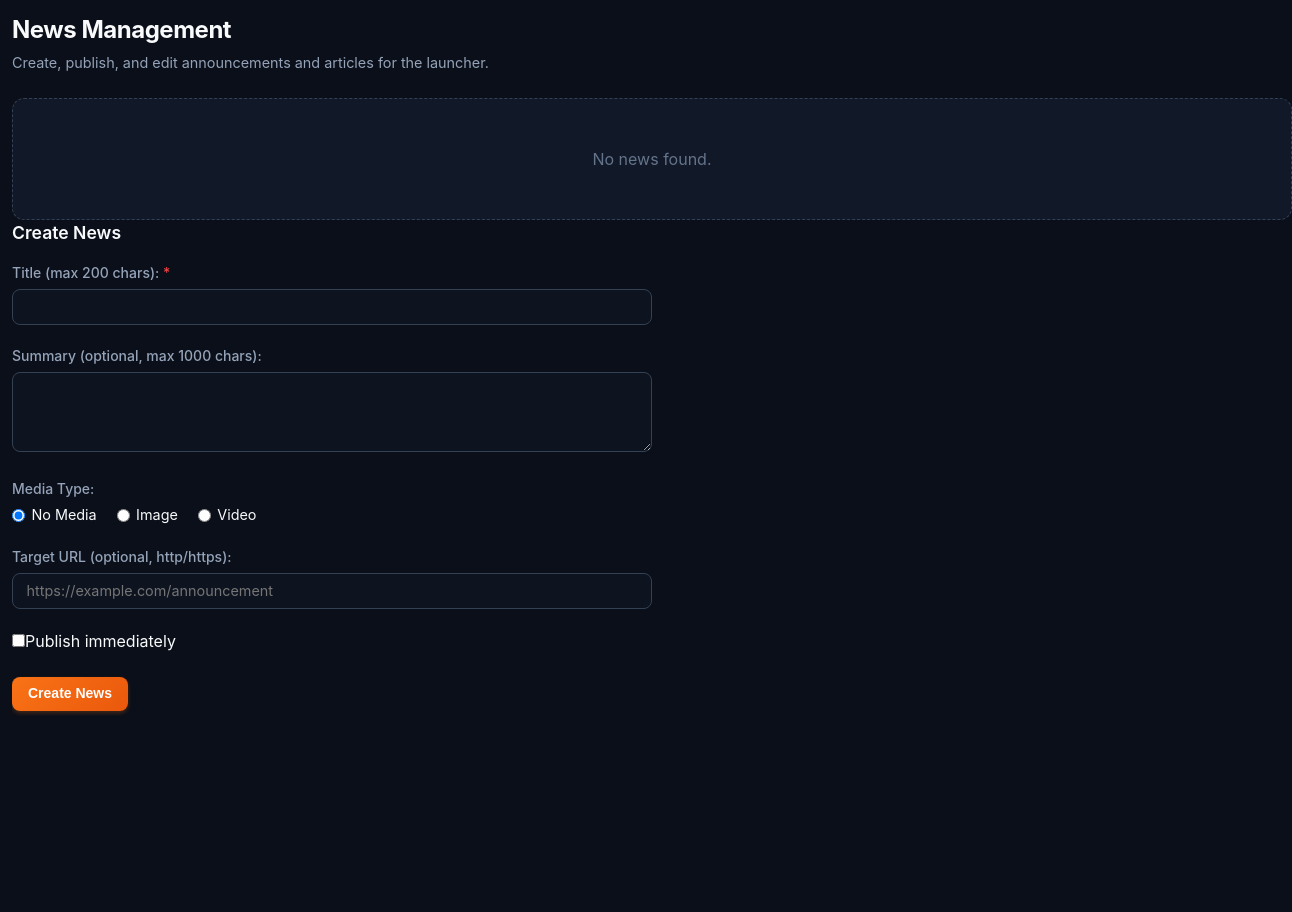
Test: News UI Functional Tests › 7. Rejects javascript: protocol in image_url and target_url
The image size is (1292, 912).
Expected: the heading "Create News" is shown, top-left (12, 220), bottom-right (121, 246)
# Select Image media type
Click the radio button with test id "media-type-image" at (123, 515), box top-left (117, 509), bottom-right (130, 522)
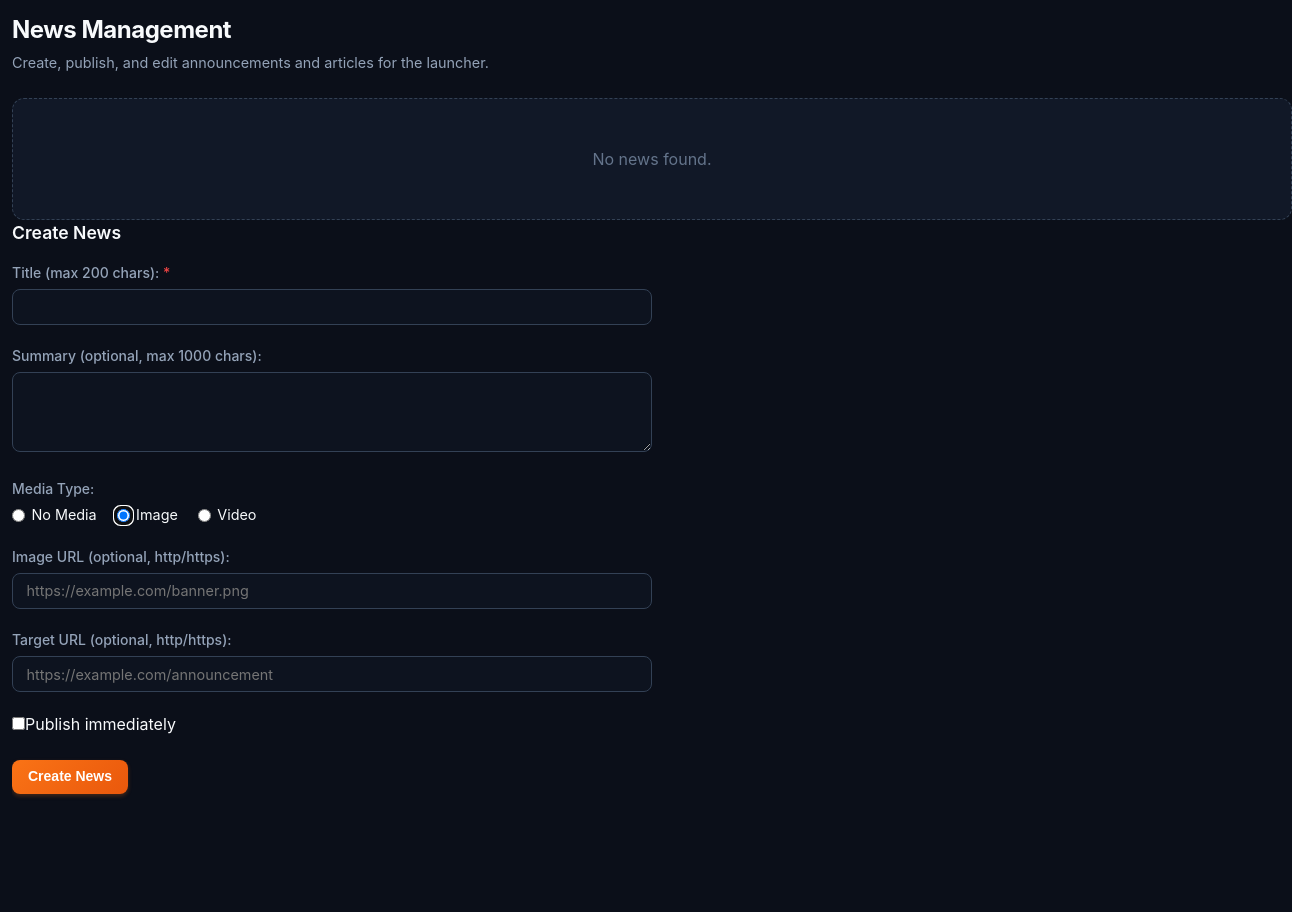
Type "Valid News" into the field labelled "Title (max 200 chars): *" at (332, 307), box top-left (12, 289), bottom-right (652, 325)
Type "javascript:alert(1)" into the field labelled "Image URL (optional, http/https):" at (332, 591), box top-left (12, 573), bottom-right (652, 609)
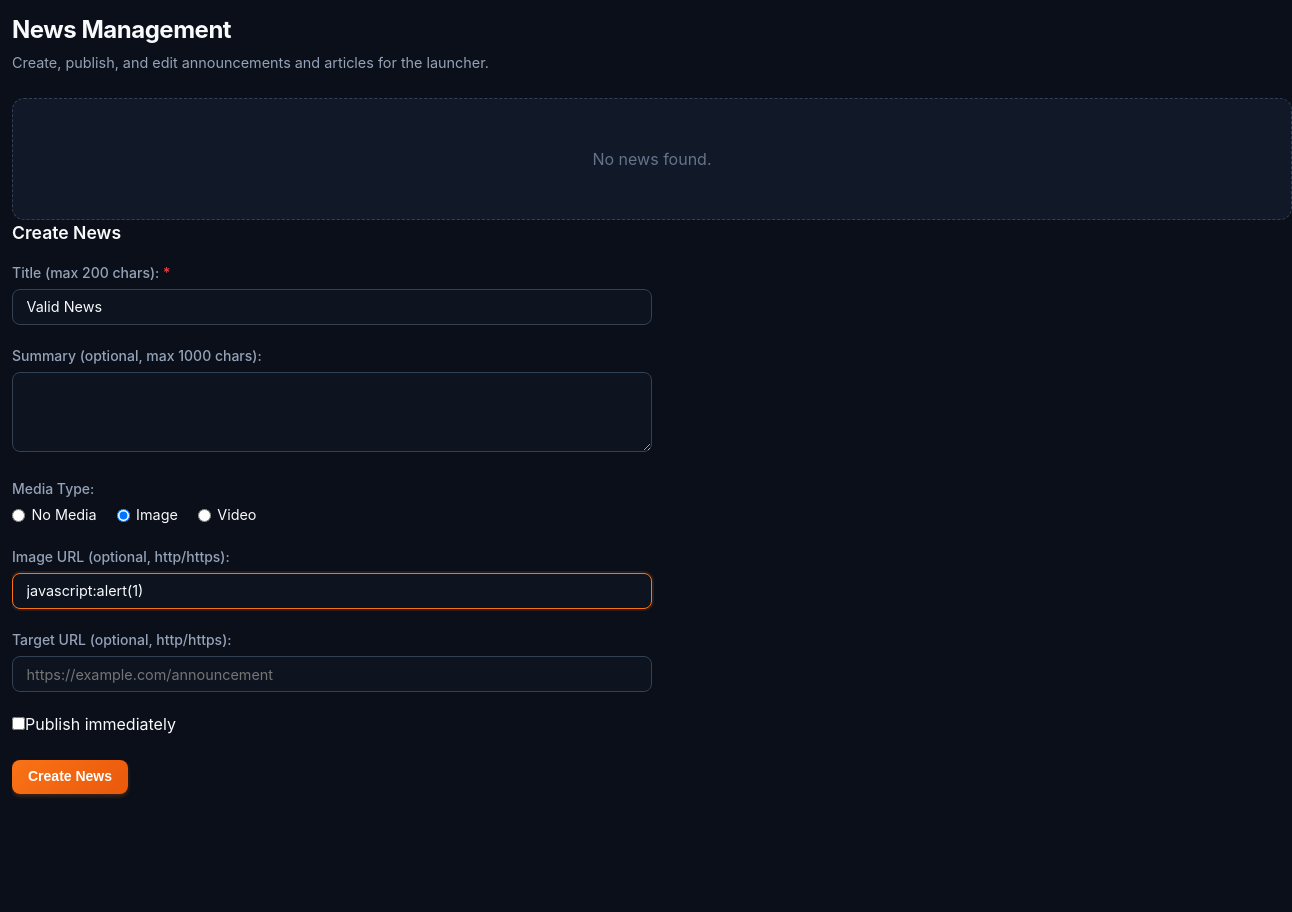
Click the button "Create News" at (70, 777), box top-left (12, 760), bottom-right (128, 794)
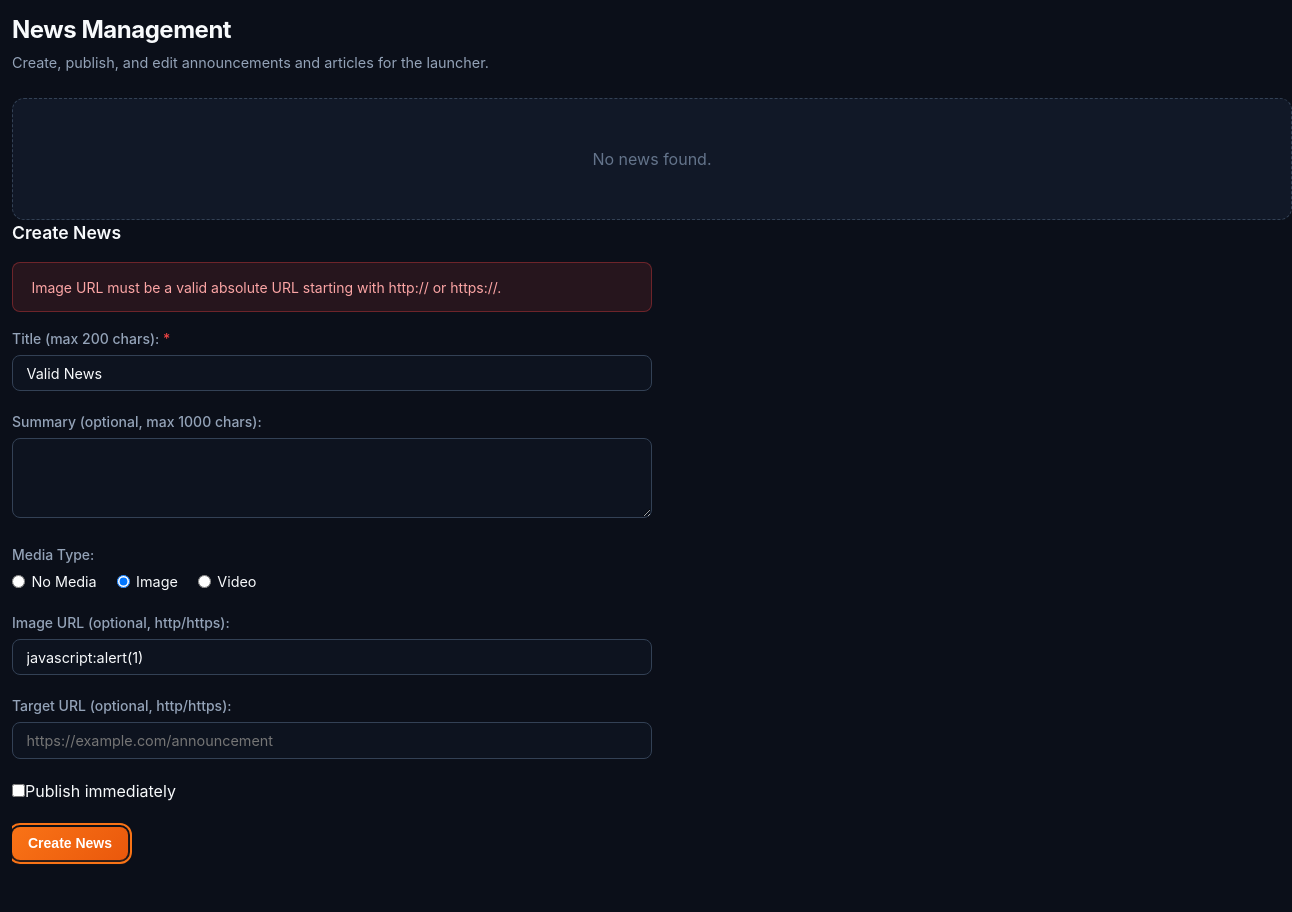
Expected: the text "Image URL must be a valid absolute URL starting with http:// or https://." is shown, top-left (12, 262), bottom-right (652, 312)
Clear the field labelled "Image URL (optional, http/https):" at (332, 657), box top-left (12, 639), bottom-right (652, 675)
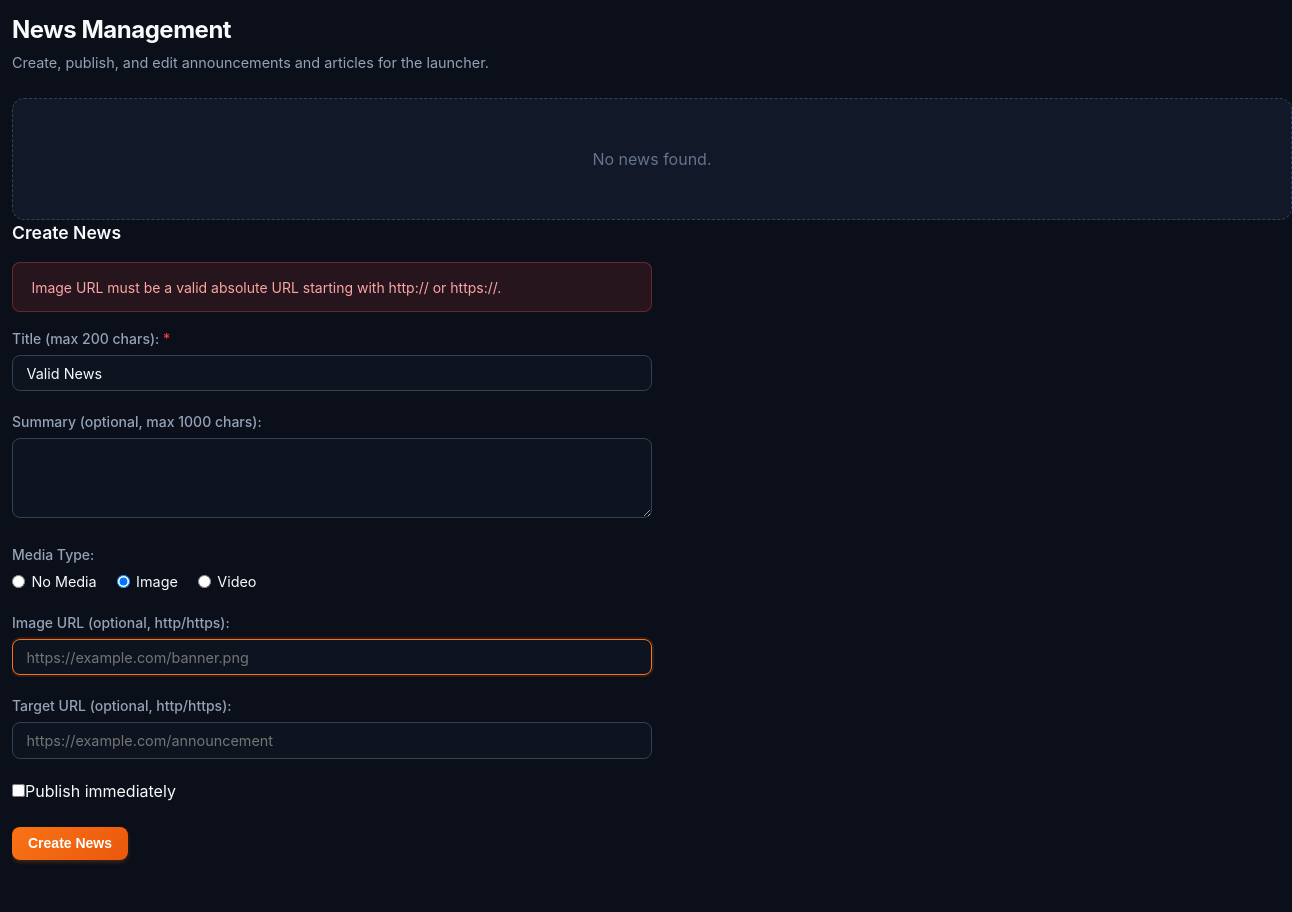
Type "javascript:void(0)" into the field labelled "Target URL (optional, http/https):" at (332, 740), box top-left (12, 722), bottom-right (652, 759)
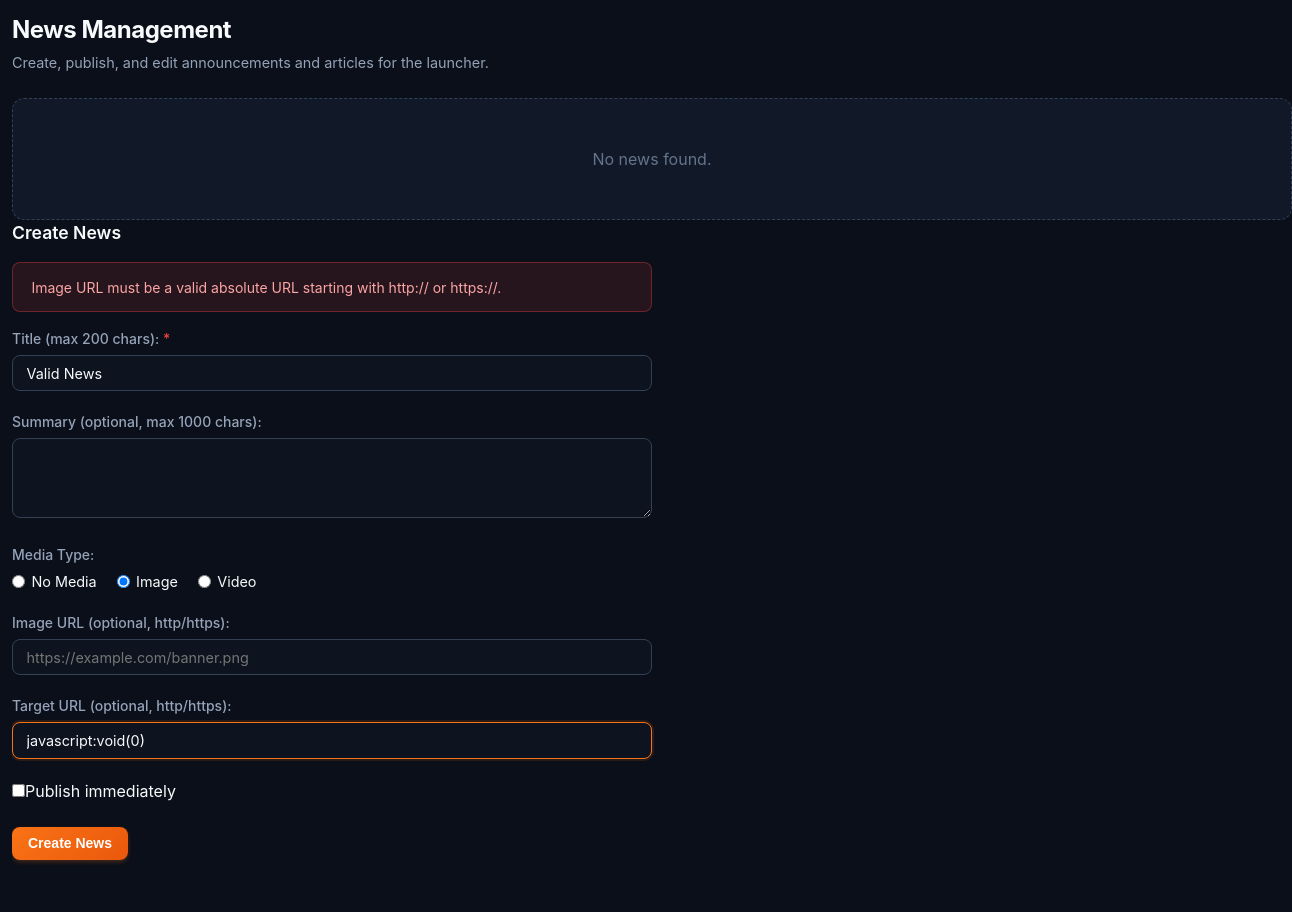
Click the button "Create News" at (70, 843), box top-left (12, 826), bottom-right (128, 860)
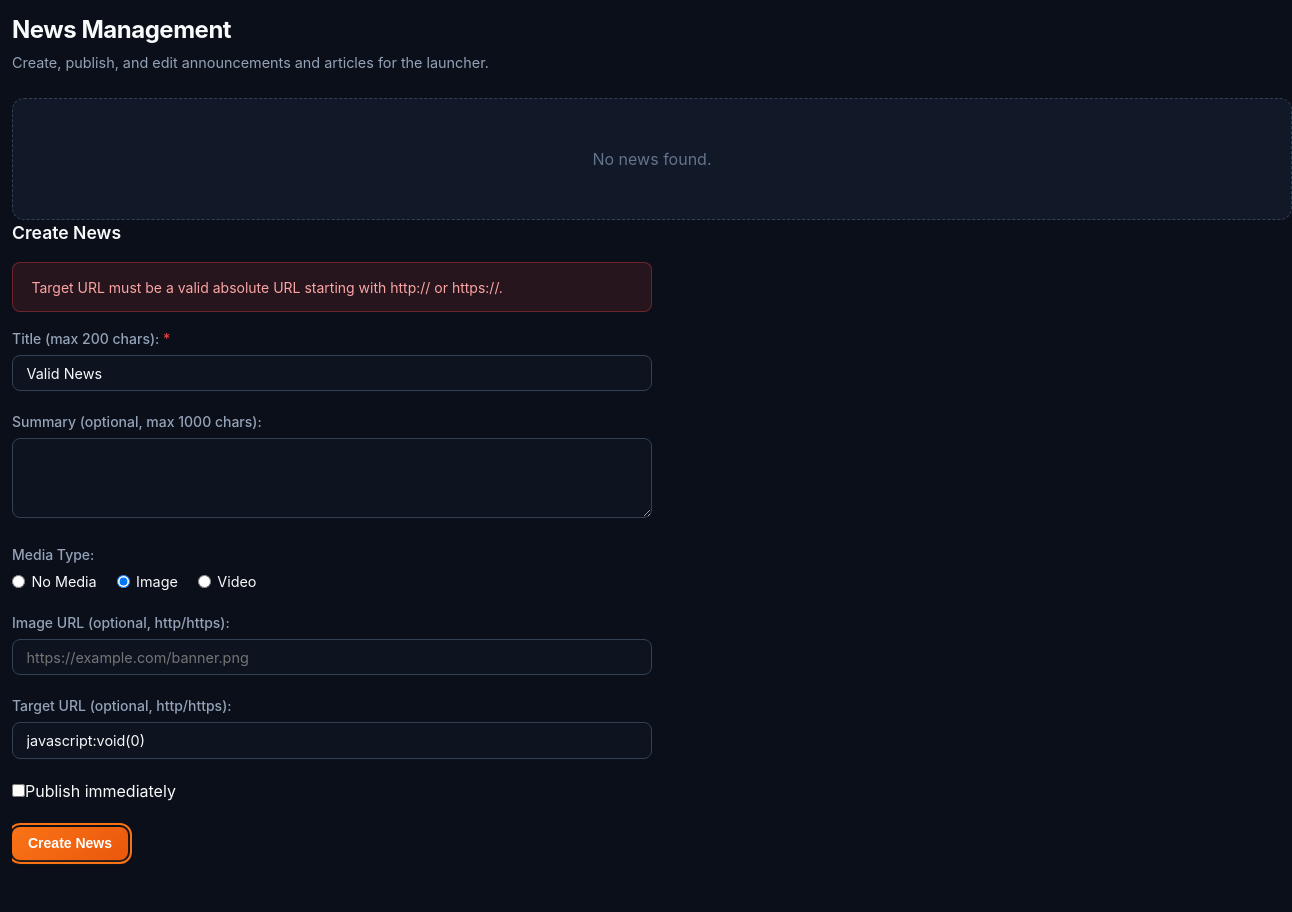
Expected: the text "Target URL must be a valid absolute URL starting with http:// or https://." is shown, top-left (12, 262), bottom-right (652, 312)
